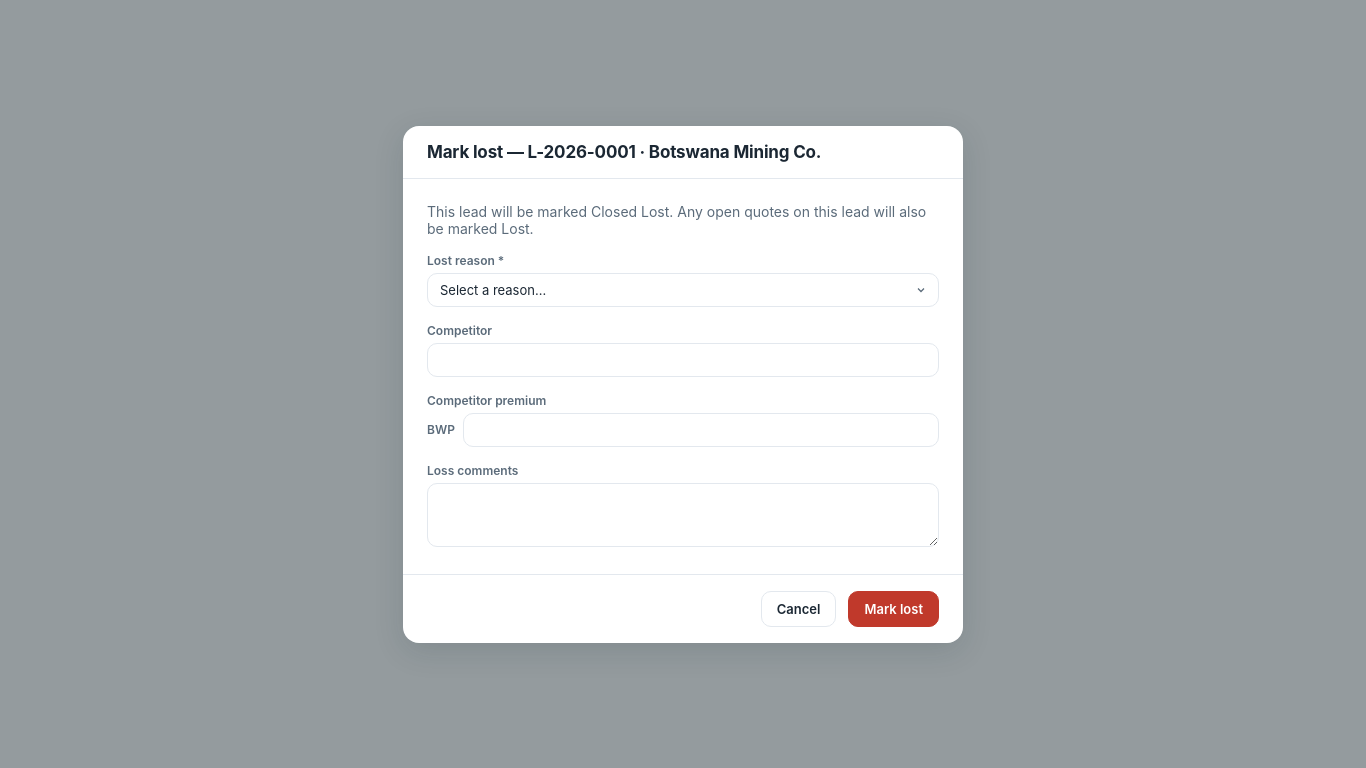
it: MarkLostDialog › click_WhenConfirmedWithoutReason_ShouldShowInlineErrorAndNotConfirm
This screenshot has width=1366, height=768.
Click the button with test id "dialog-danger-button".
click(894, 608)  # box [848, 590, 939, 626]
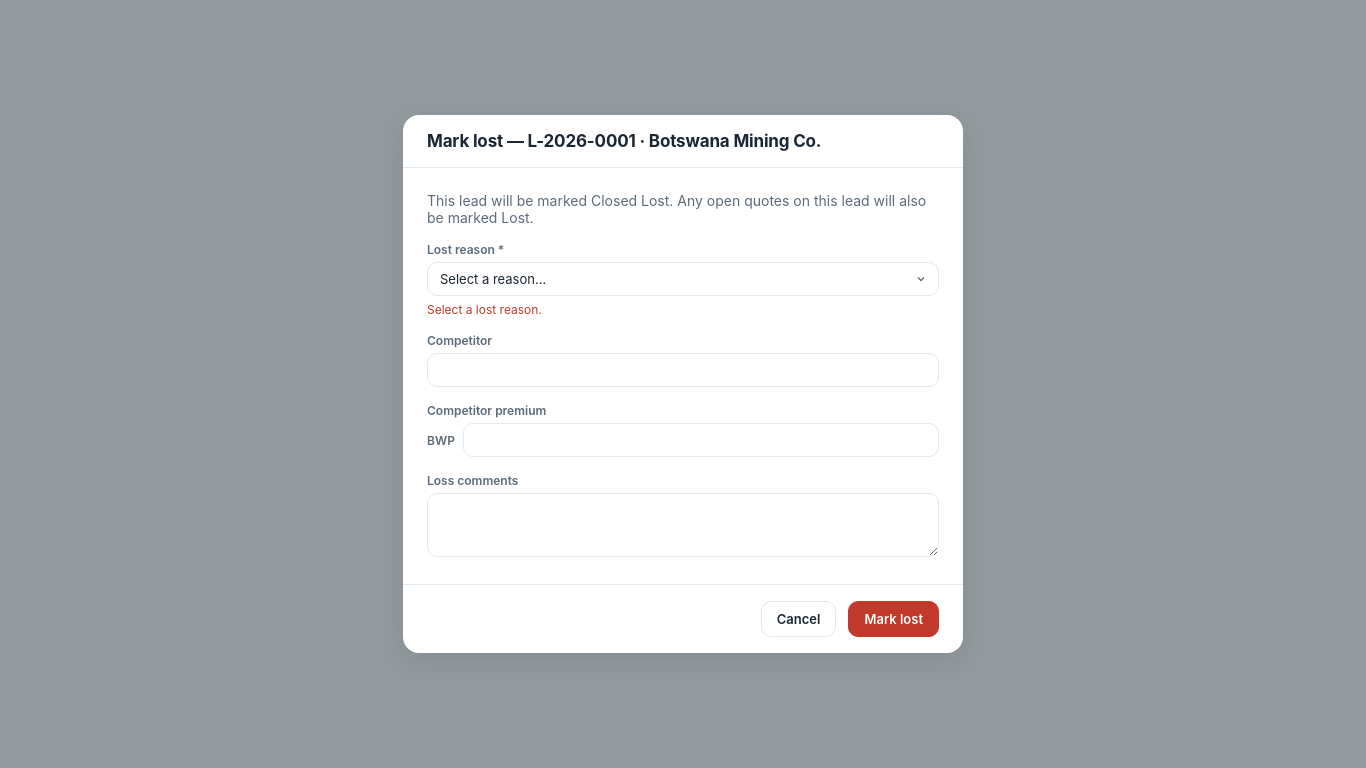
expect the message with test id "field-error-lost-reason" reads "Select a lost reason.": met, box [427, 302, 542, 317]
